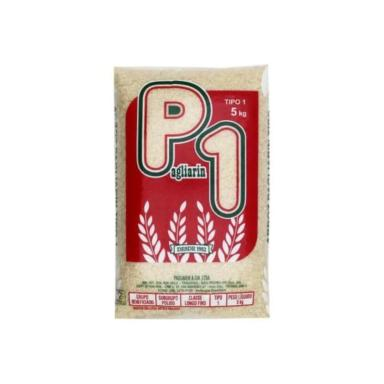rice package: (115, 66, 268, 317)
